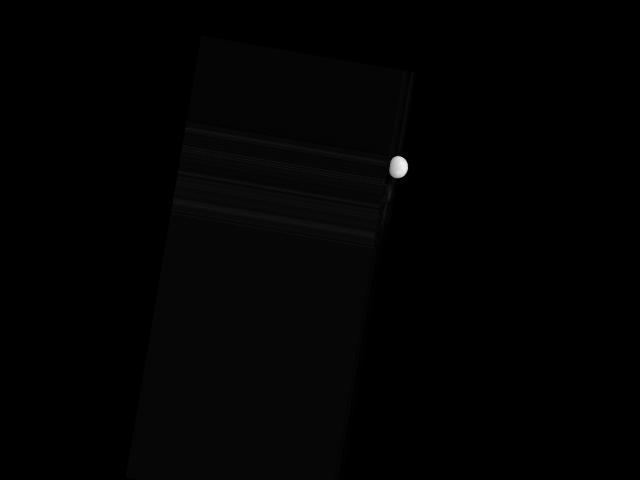egg: (387, 154, 409, 180)
